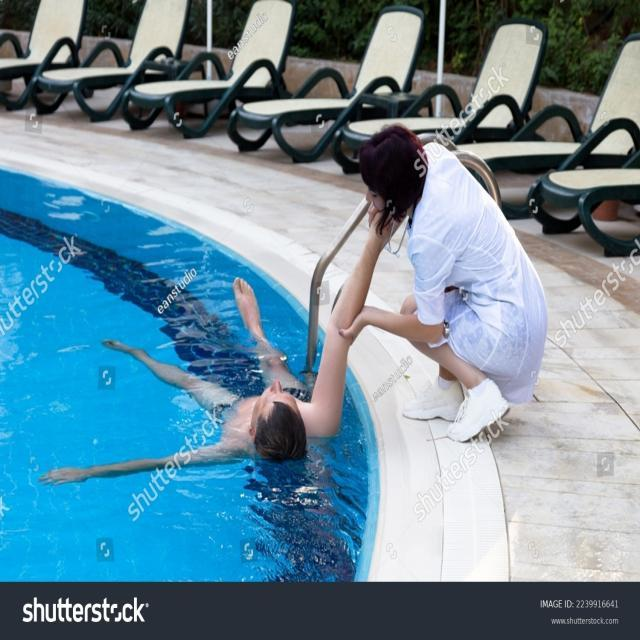drowning: (24, 256, 372, 520)
